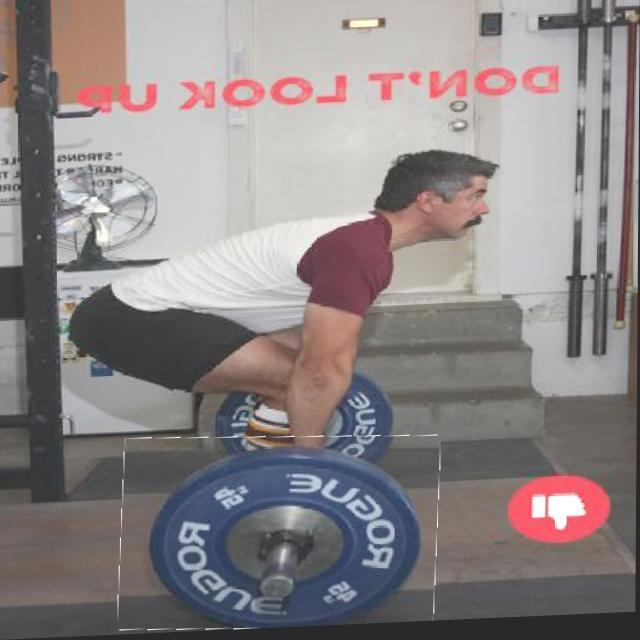barbell: (121, 432, 441, 637)
